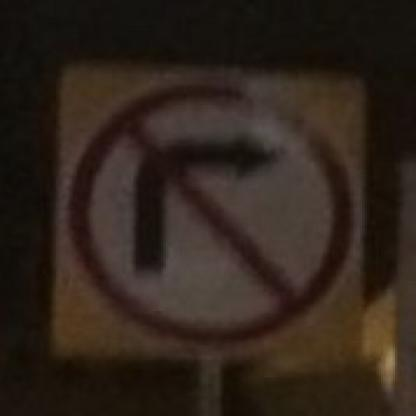No right turn: (49, 61, 366, 370)
